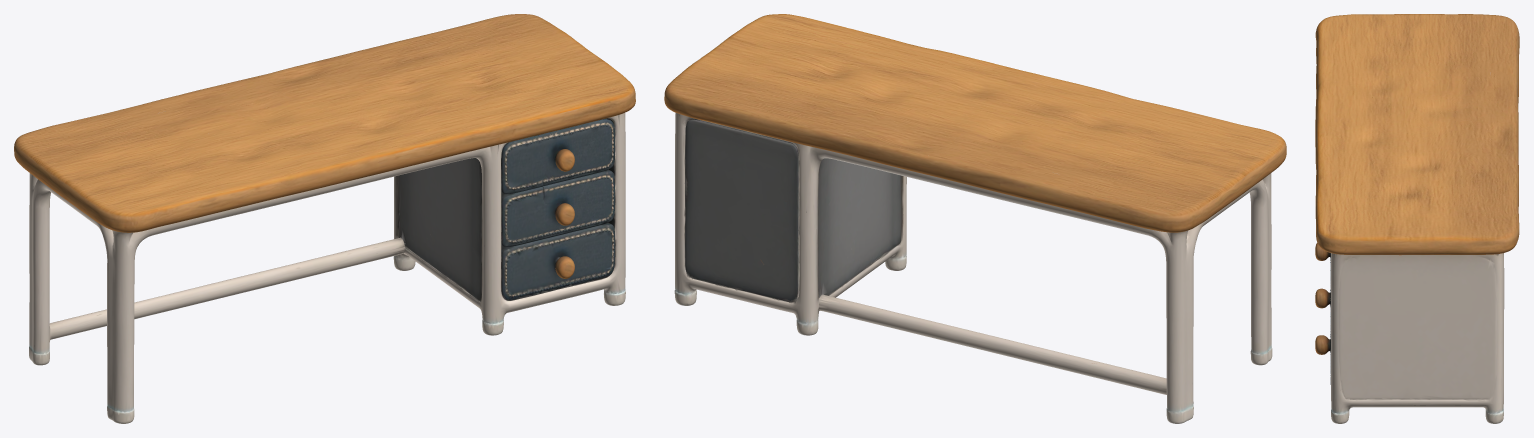
The model's file is study-desk.high.glb.
The picture shows the model from 3 angles, left to right: view 1: azimuth 30°, elevation 25°; view 2: azimuth 150°, elevation 25°; view 3: azimuth 270°, elevation 25°; orthographic projection. The views are drawn at different scales.
Parts seen in each view (by area): view 1: tripo_node_a2fce4ef-5197-4d88-b1a3-64c240ba466b; view 2: tripo_node_a2fce4ef-5197-4d88-b1a3-64c240ba466b; view 3: tripo_node_a2fce4ef-5197-4d88-b1a3-64c240ba466b.
Boxes of the visible parts, x1,y1,x2,y2 form: tripo_node_a2fce4ef-5197-4d88-b1a3-64c240ba466b: (14, 14, 635, 423); tripo_node_a2fce4ef-5197-4d88-b1a3-64c240ba466b: (664, 14, 1286, 423); tripo_node_a2fce4ef-5197-4d88-b1a3-64c240ba466b: (1315, 14, 1519, 423).
Bounding box in the file's own units: 1.9 × 0.7399 × 0.72.
Materials: 1 (1 with a texture image).
